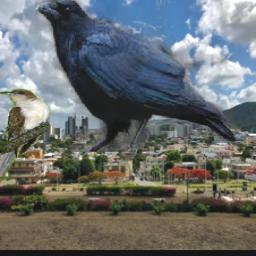Crow: (36, 0, 237, 153)
Cuckoo: (0, 88, 51, 184)
